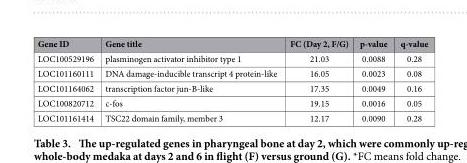table: (36, 36, 427, 123)
table column: (98, 36, 282, 123), (282, 36, 353, 123), (36, 36, 98, 123), (353, 36, 393, 123), (393, 36, 427, 123)
table column header: (36, 36, 427, 50)
table row: (36, 50, 427, 65), (36, 65, 427, 80), (36, 80, 427, 95), (36, 95, 427, 110), (36, 36, 427, 50), (36, 110, 427, 123)
